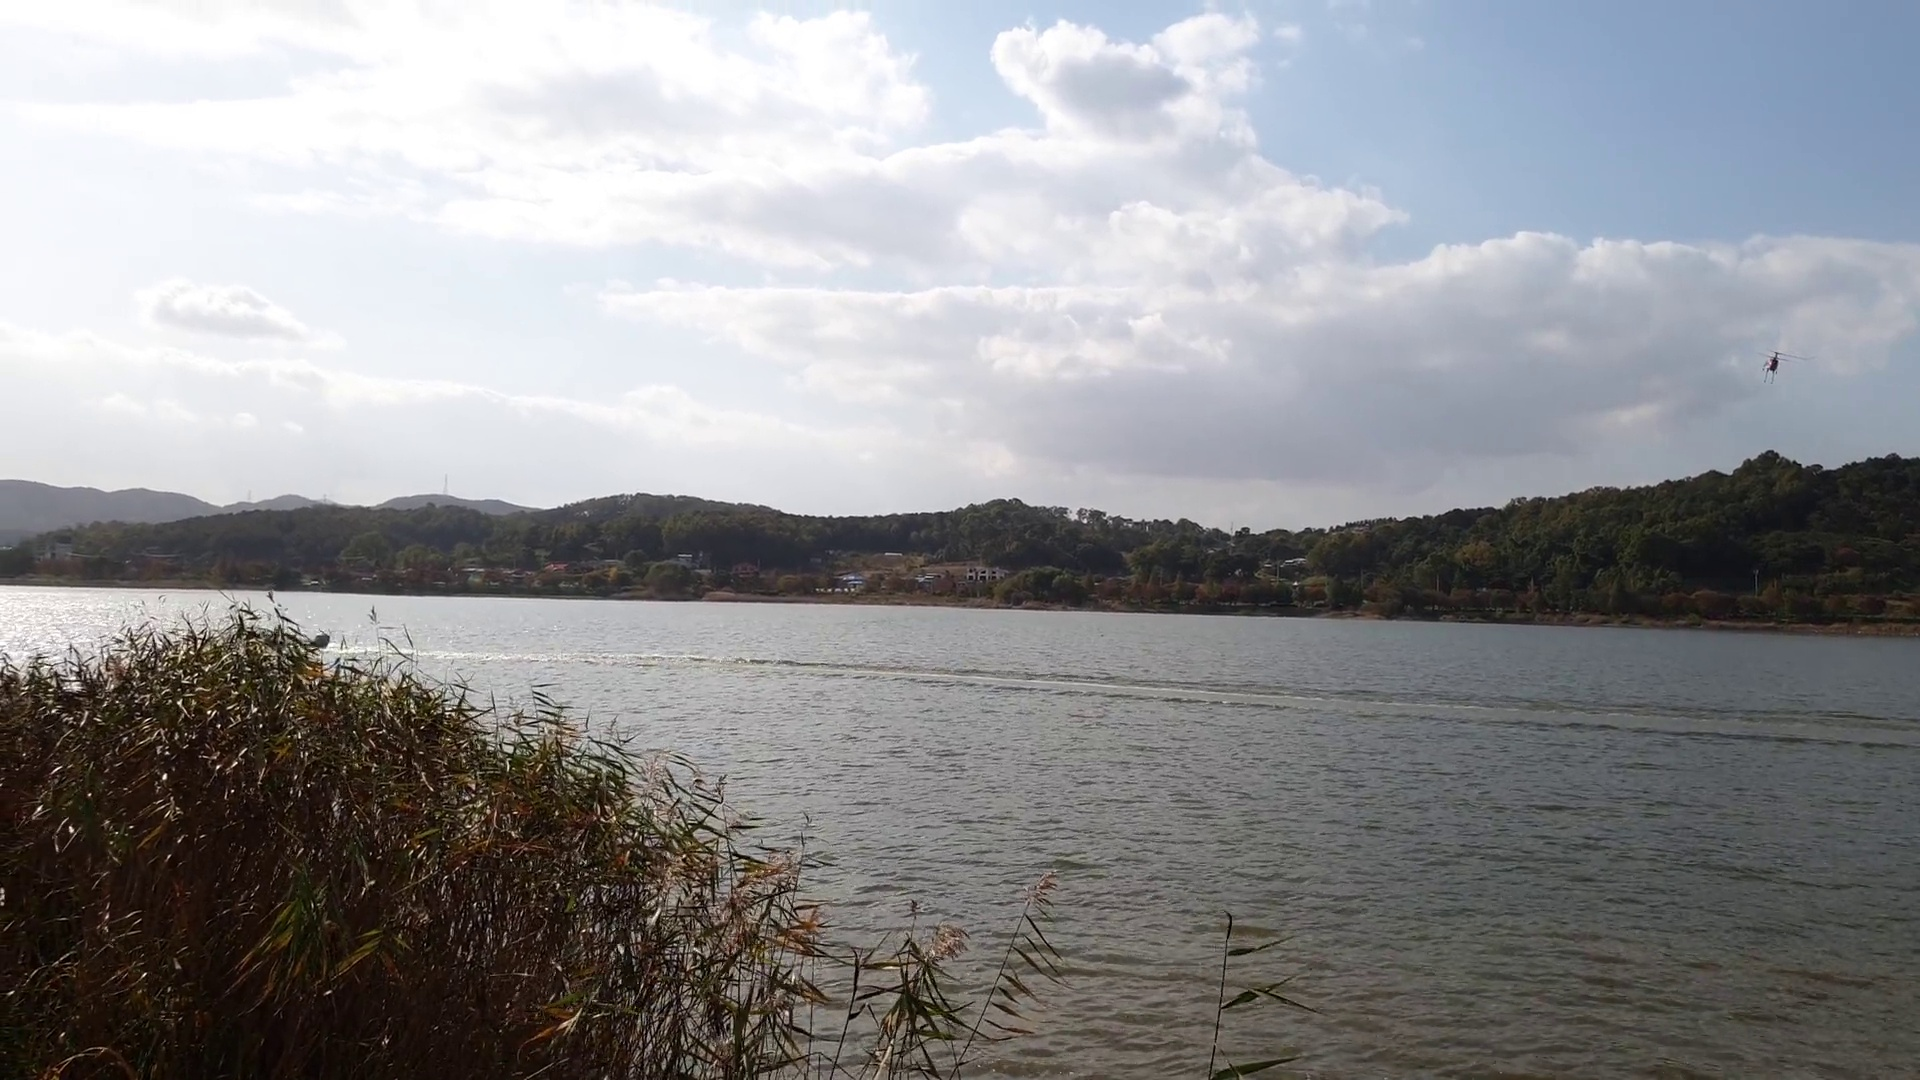heli: (1758, 351, 1807, 375)
